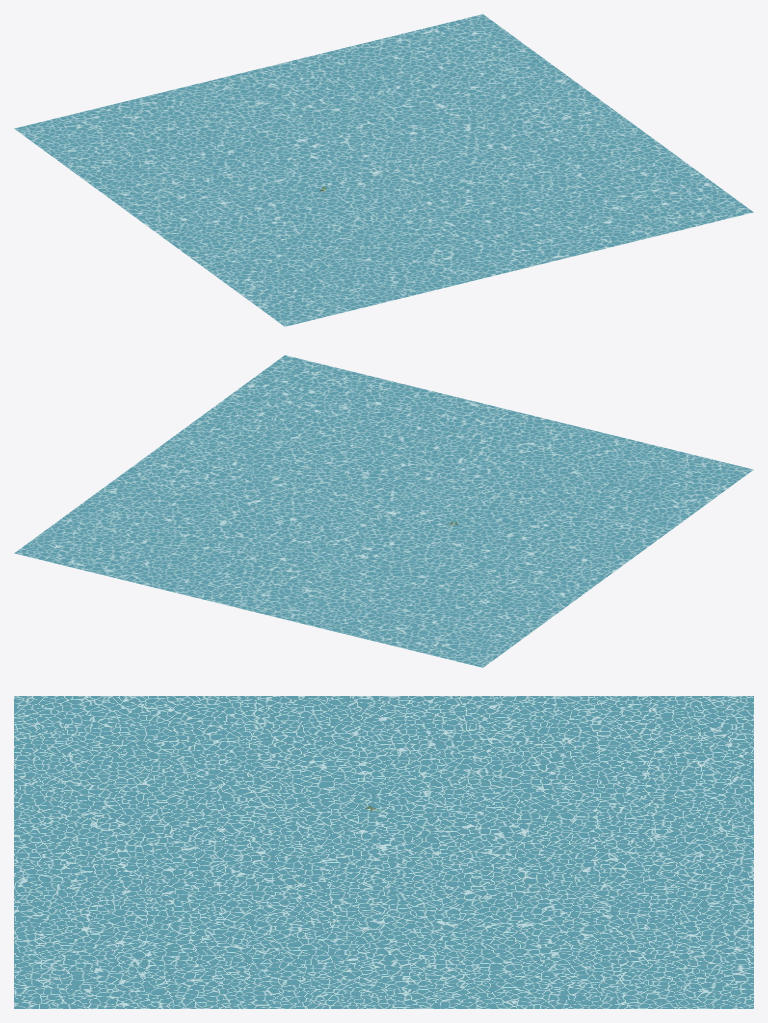
File: underwater.glb
3 renders of one model, top to bottom at view 1: azimuth 30°, elevation 25°; view 2: azimuth 150°, elevation 25°; view 3: azimuth 270°, elevation 25°, orthographic. The views are drawn at different scales.
Visible parts, largest first — view 1: surface; view 2: surface; view 3: surface.
Boxes of the visible parts, left/top/right/bottom form: surface: left=14, top=14, right=753, bottom=326; surface: left=14, top=355, right=753, bottom=667; surface: left=14, top=696, right=753, bottom=1008.
Bounding box in the file's own units: 220 × 17.34 × 220.
Materials: 8 (4 with a texture image).
